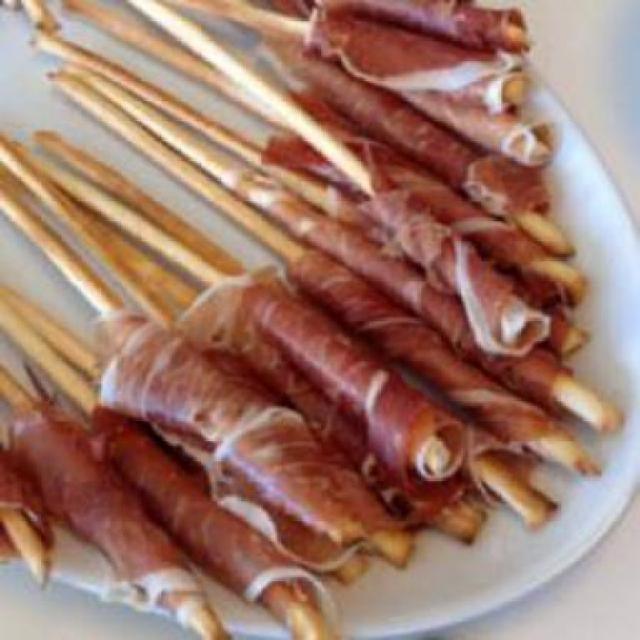Grissini: (1, 4, 617, 590)
